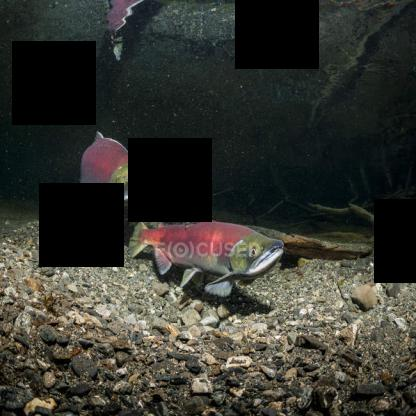fish: (124, 203, 292, 294), (69, 129, 170, 215)
